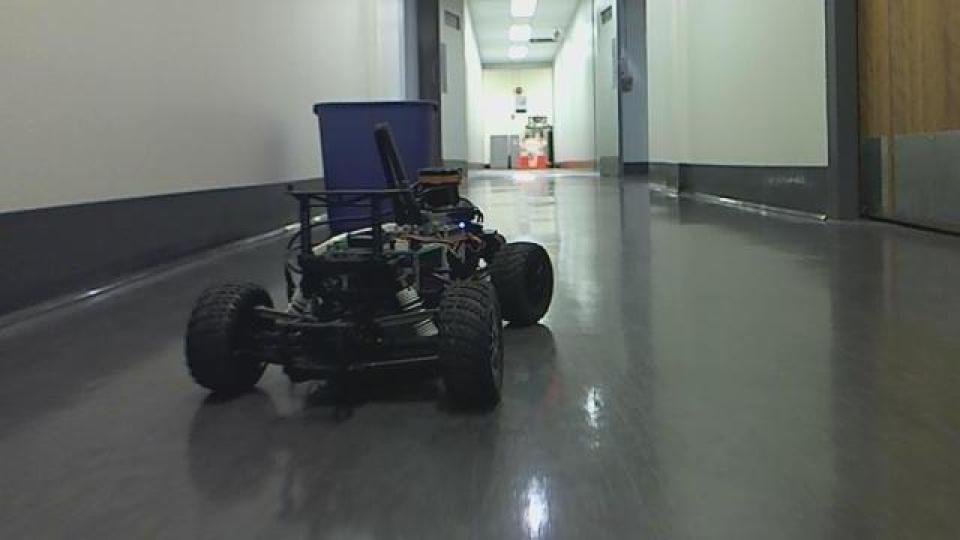car: (180, 108, 556, 418)
